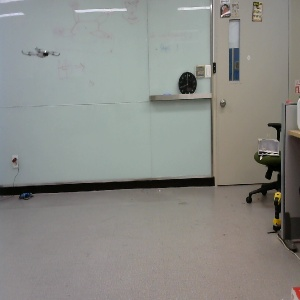Drone: (18, 50, 58, 62)
